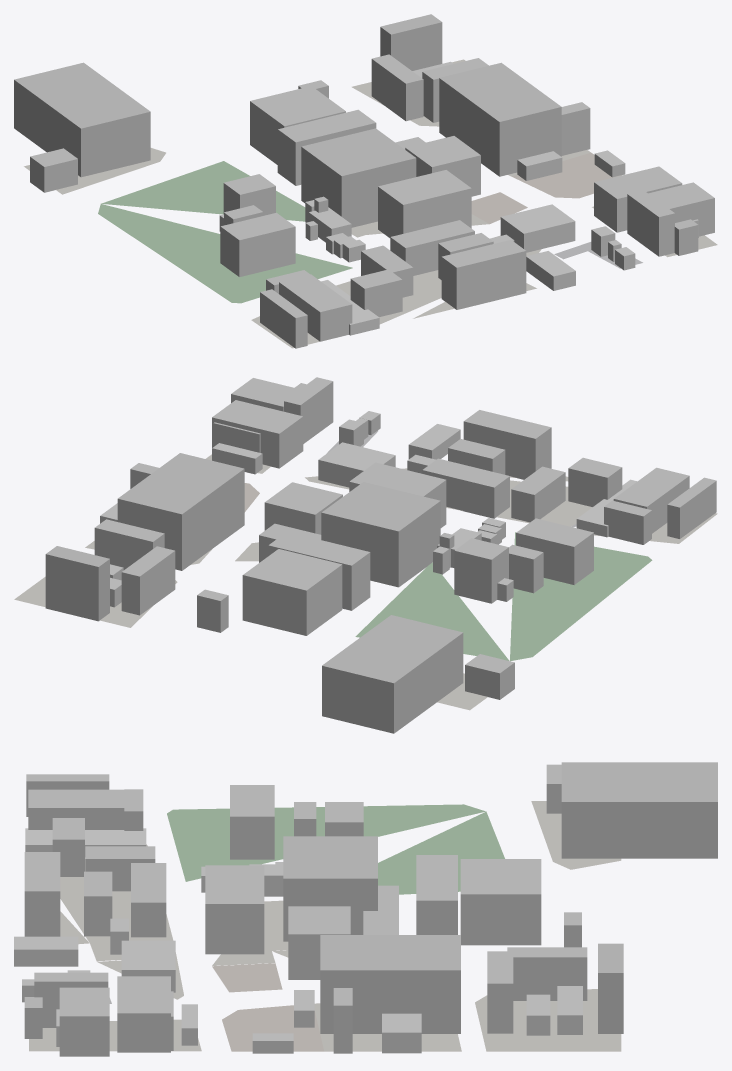
The model's file is 106_103_mid.glb.
3 renders of one model, top to bottom at view 1: azimuth 30°, elevation 25°; view 2: azimuth 150°, elevation 25°; view 3: azimuth 270°, elevation 25°, orthographic. The views are drawn at different scales.
Bounding box in the file's own units: 524 × 59.65 × 594.
